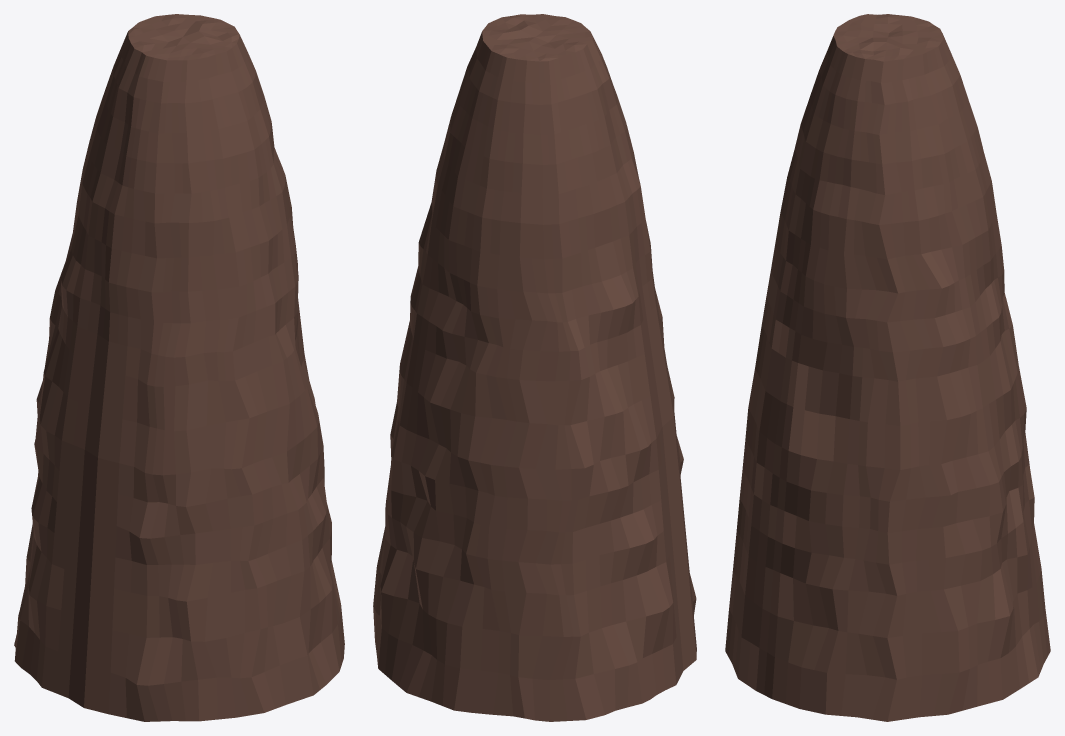
Rendered from superfbxMountain.fbx.
3 views of the same model, side by side, from view 1: azimuth 30°, elevation 25°; view 2: azimuth 150°, elevation 25°; view 3: azimuth 270°, elevation 25° (orthographic).
Parts seen in each view (by area): view 1: Circle; view 2: Circle; view 3: Circle.
Part boxes in pixels (box(x1,y1,x2,y2)): Circle: box(14, 14, 344, 721); Circle: box(373, 14, 696, 721); Circle: box(725, 14, 1050, 721).
Bounding box in the file's own units: 583 × 1218 × 581.
